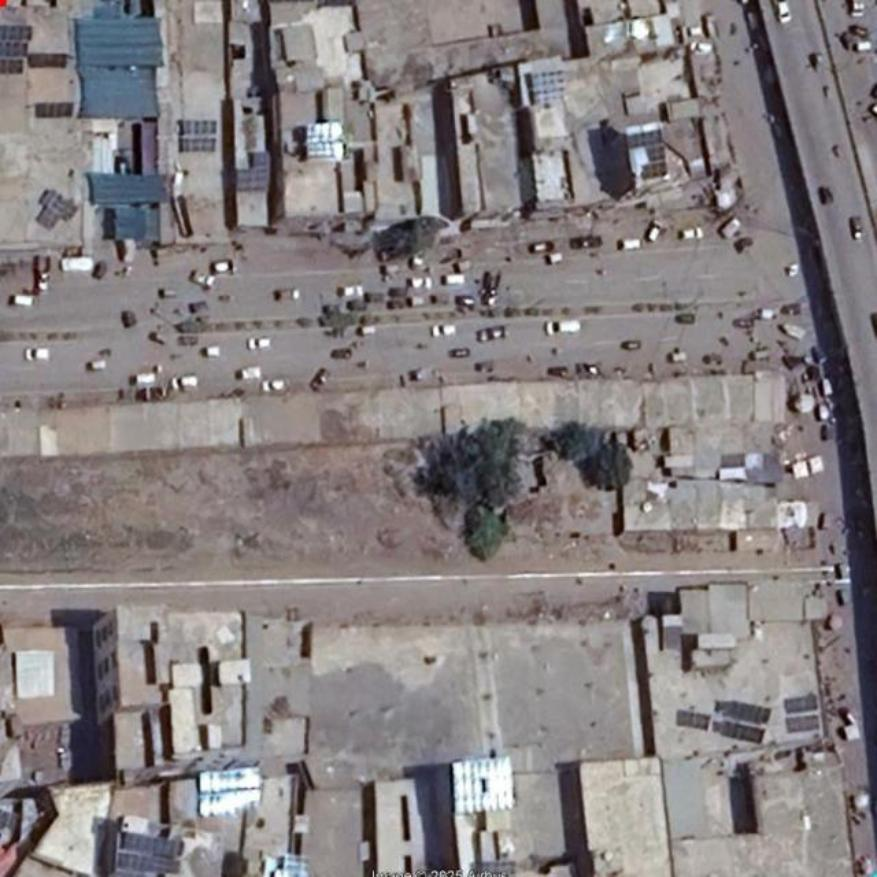Solarpanel: (452, 757, 513, 810), (196, 771, 257, 815), (120, 834, 181, 876), (721, 702, 770, 743), (629, 128, 667, 179), (0, 24, 29, 73), (783, 695, 818, 731), (307, 124, 341, 160), (178, 120, 215, 151), (531, 72, 562, 105), (33, 101, 74, 120), (31, 52, 67, 68)
